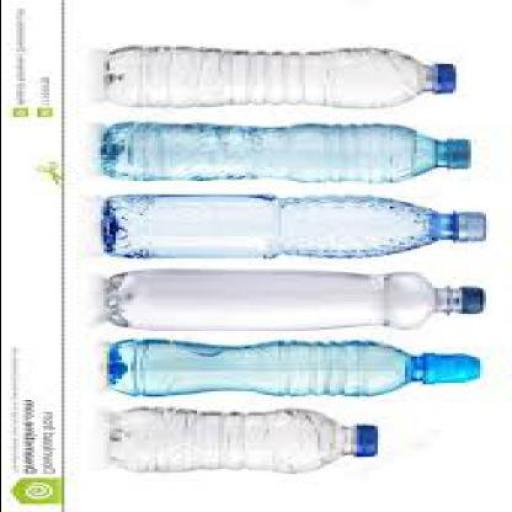plastic: (103, 197, 488, 262), (103, 273, 488, 333), (102, 124, 470, 185), (108, 341, 485, 400), (102, 49, 458, 110), (108, 410, 377, 474), (418, 355, 485, 386), (455, 214, 488, 246), (352, 426, 380, 459), (443, 142, 473, 171), (458, 288, 487, 318), (434, 66, 461, 96)
